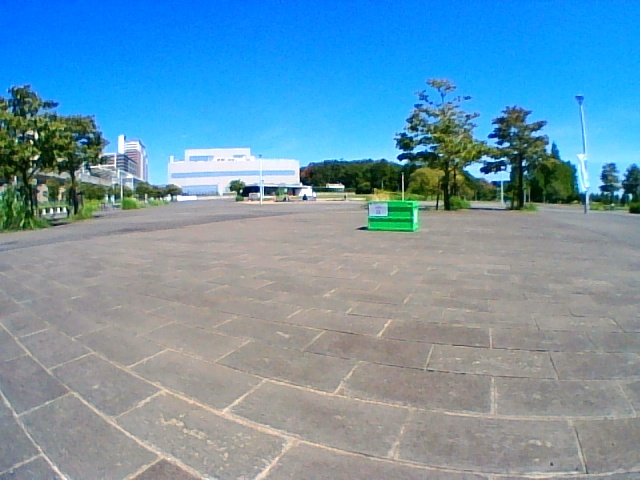green_box: (367, 200, 417, 230)
tag: (369, 203, 387, 216)
